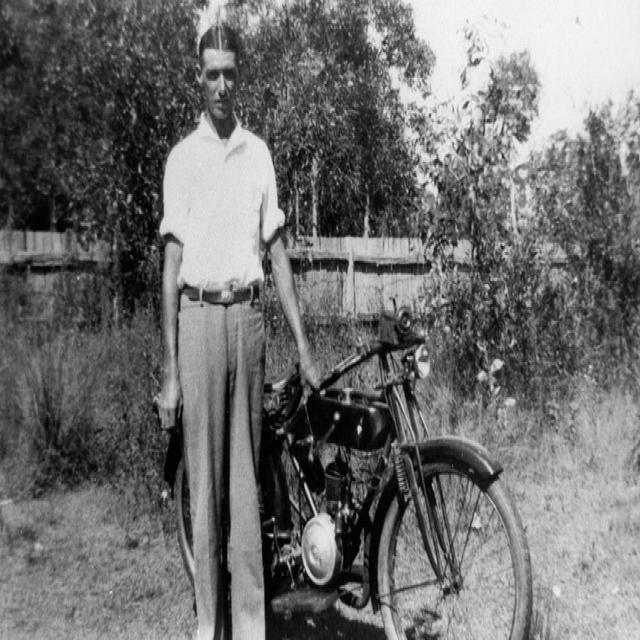motor: (163, 296, 533, 640)
